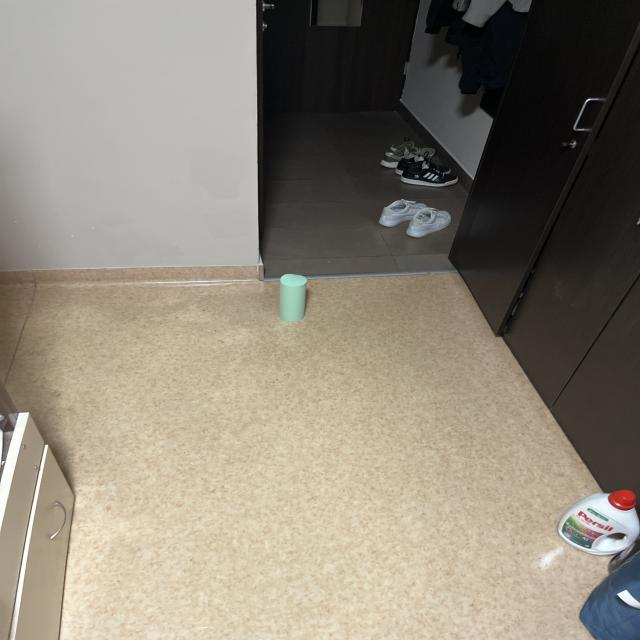meta: (279, 282, 305, 321)
